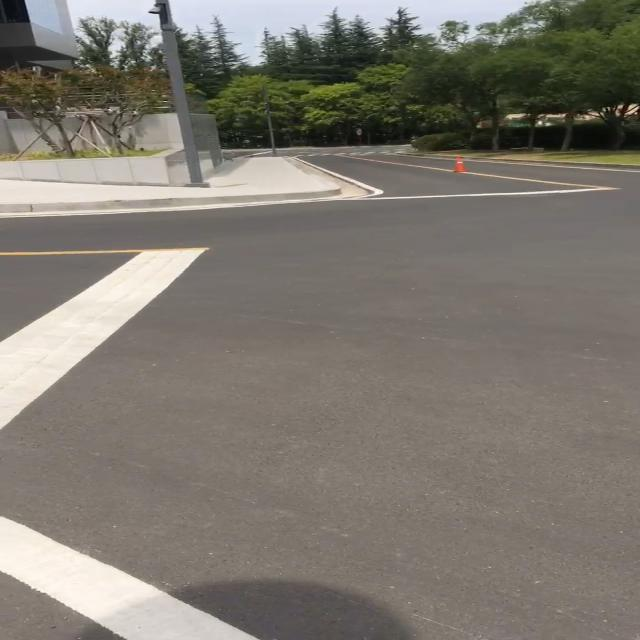obstacle: (157, 2, 206, 184), (449, 154, 470, 175)
road: (0, 150, 640, 640)
sidewalk: (0, 154, 342, 214)
